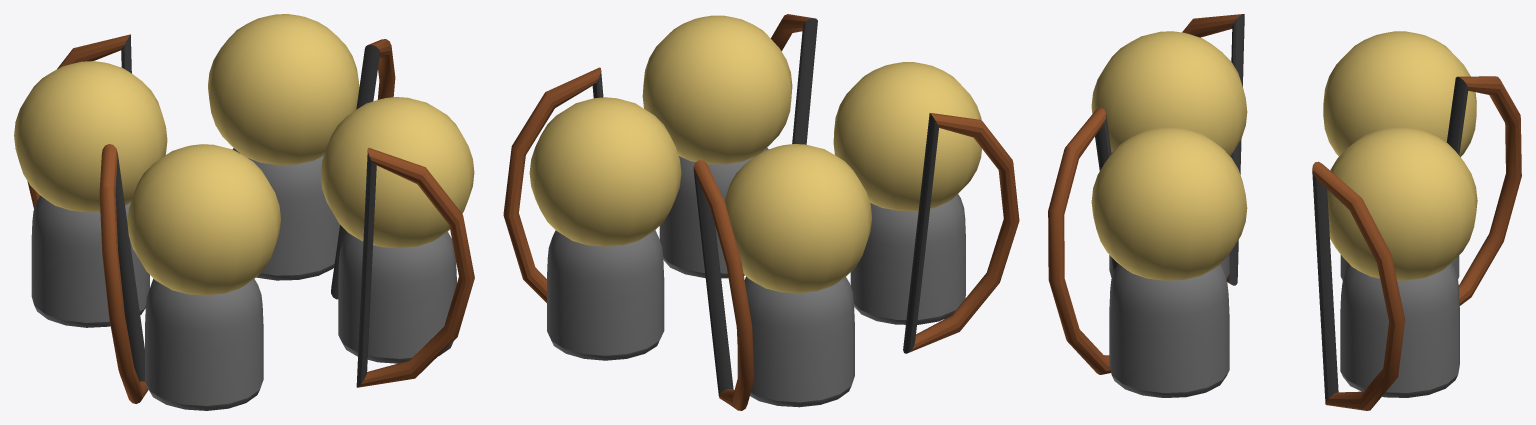
Rendered from kucuk4okcu.fbx.
3 renders of one model, left to right at view 1: azimuth 30°, elevation 25°; view 2: azimuth 150°, elevation 25°; view 3: azimuth 270°, elevation 25°, orthographic. The views are drawn at different scales.
Parts seen in each view (by area): view 1: Circle.006; view 2: Circle.006; view 3: Circle.006.
Boxes of the visible parts, x1,y1,x2,y2 form: Circle.006: [14, 14, 474, 410]; Circle.006: [503, 14, 1019, 410]; Circle.006: [1048, 14, 1521, 410].
Size of the model in its own units: 790 by 484 by 796.
